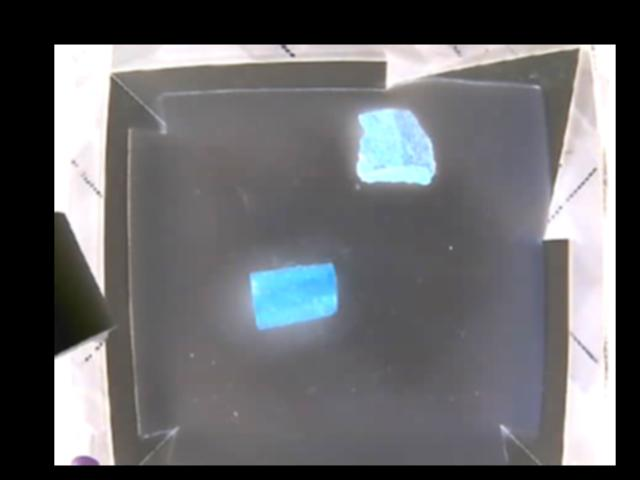Brisk: (353, 108, 439, 185)
Carrot: (247, 262, 336, 329)
